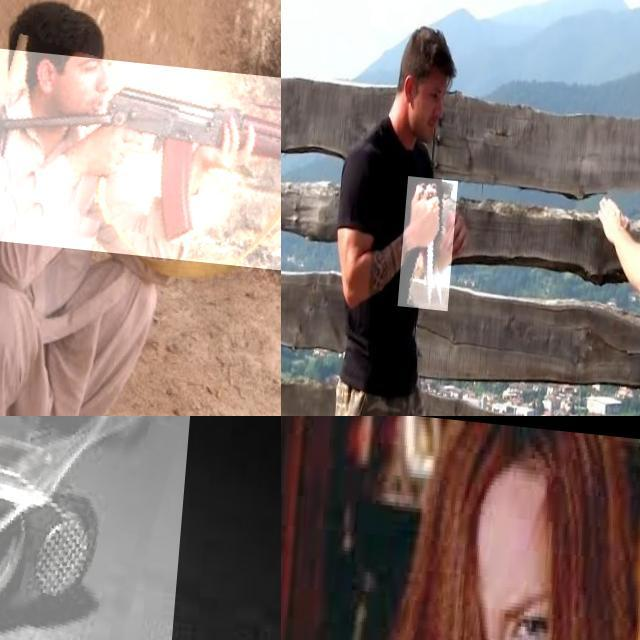-: (404, 172, 462, 306)
gun-knife-thesis - v11 Yolov5 augmented: (0, 43, 281, 266), (0, 416, 214, 640)
